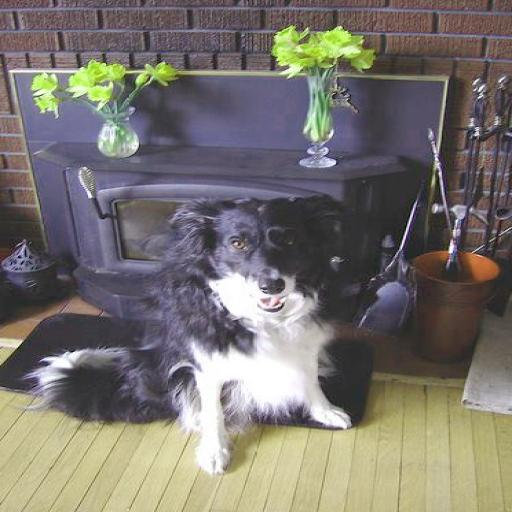dog_face: (170, 187, 356, 327)
